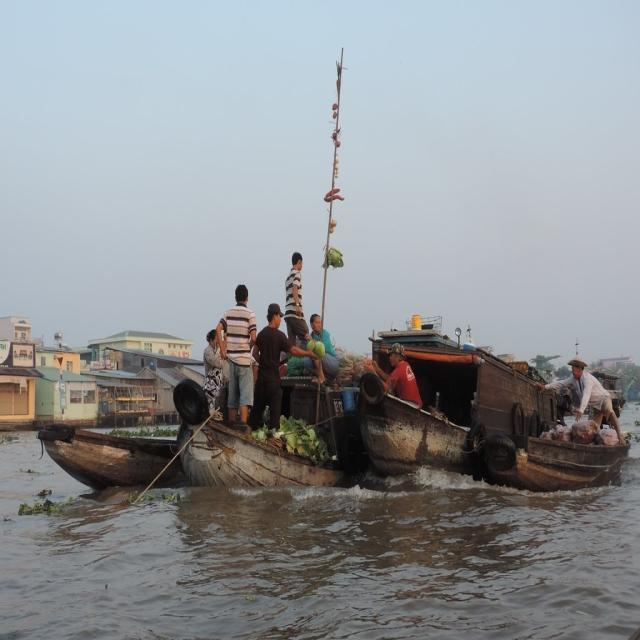Hyacinth: (15, 484, 61, 522), (4, 428, 20, 444)
boat: (345, 344, 504, 481), (518, 413, 628, 502)
